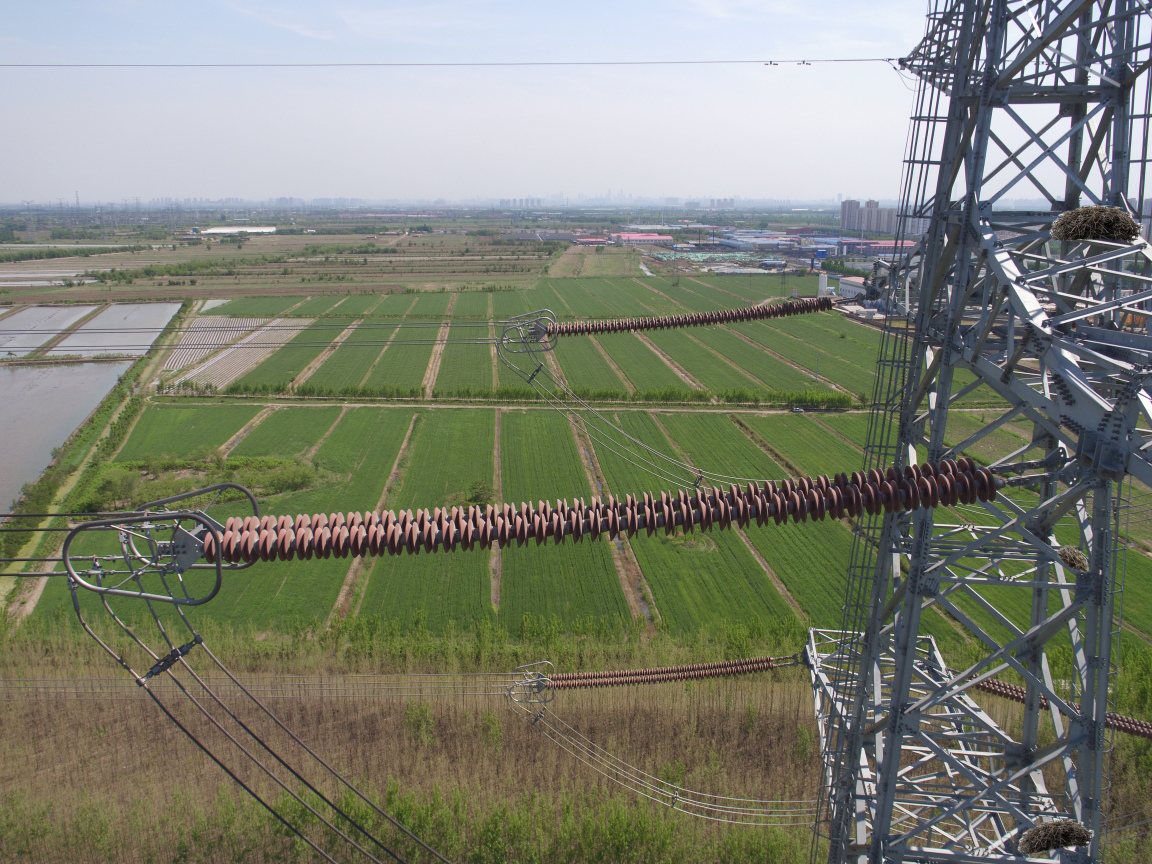nest: (1044, 202, 1142, 244), (1015, 812, 1096, 860), (1058, 540, 1093, 575)
